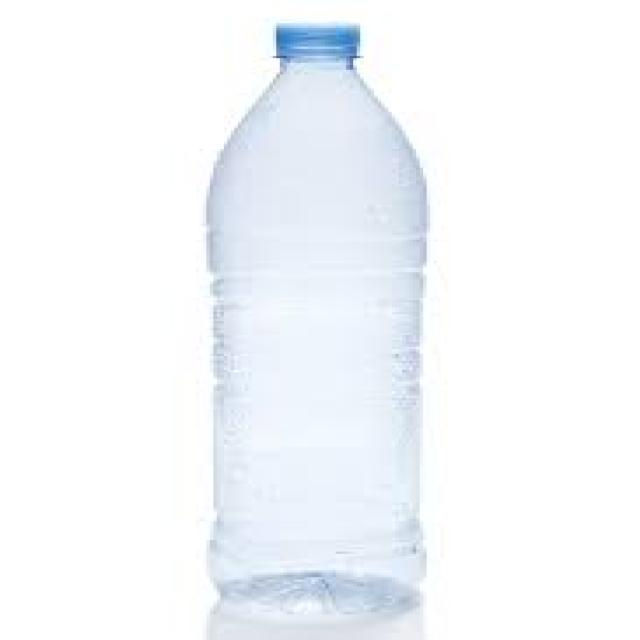plastic cup: (209, 25, 425, 614)
